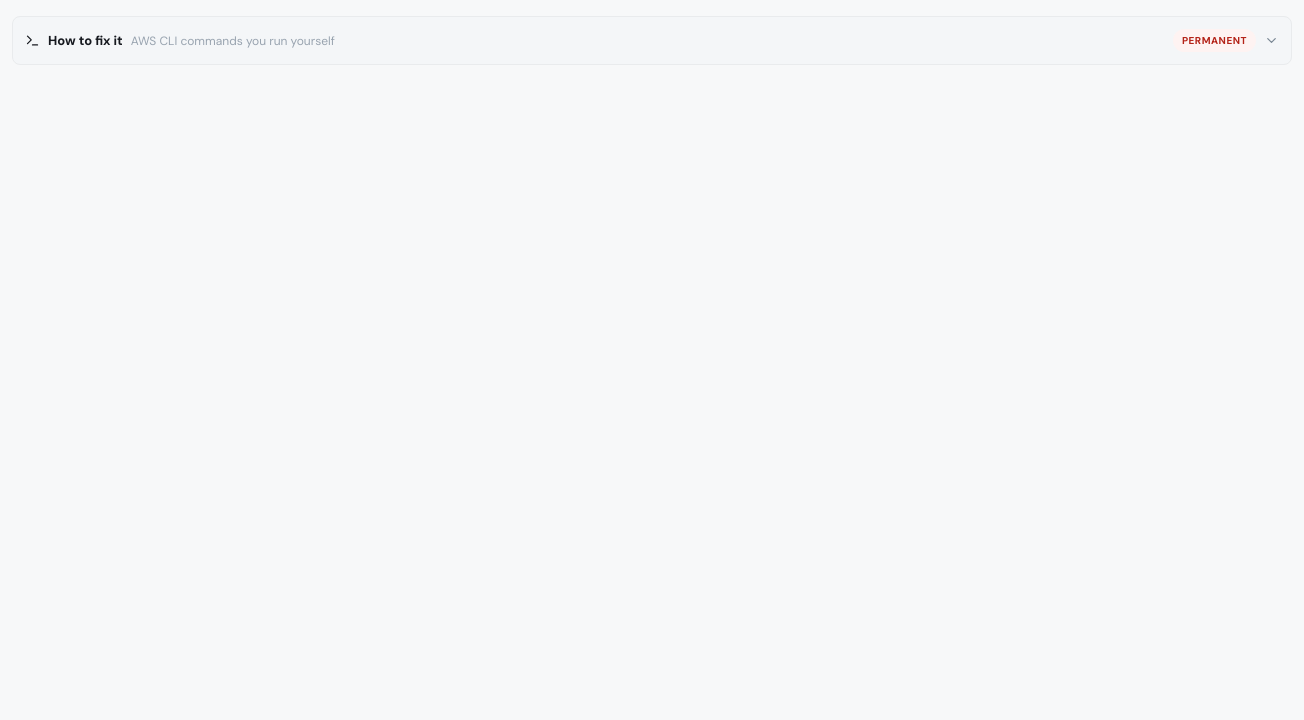
Test: FixCommands › shows the notice, placeholders, steps and the no-undo warning when opened
What coordinates should you click on to do the following:
click the button "How to fix it AWS CLI commands you run yourself Permanent"
I would click on:
 (85, 40)
Its box is [13,17,1291,64].
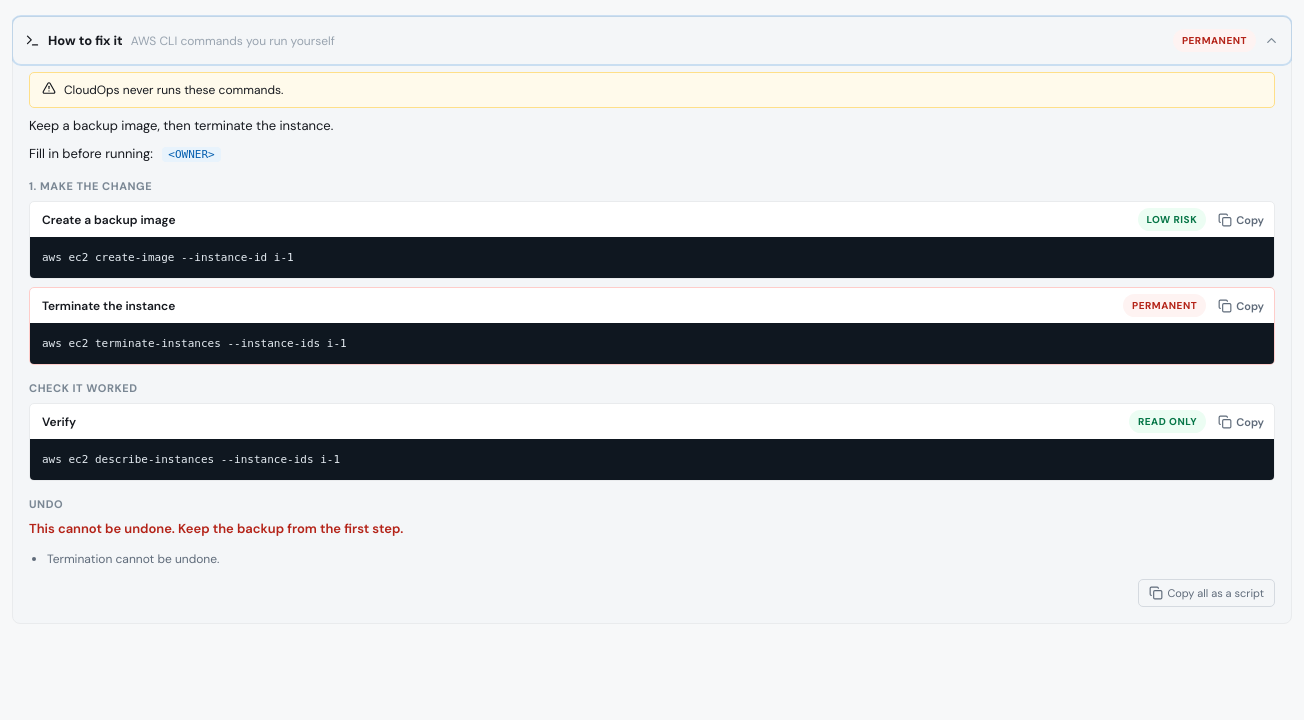
Now the text "CloudOps never runs these commands." is shown, box [29,72,1275,108]
Now the text "<OWNER>" is shown, box [162,146,221,162]
Now the text "aws ec2 terminate-instances --instance-ids i-1" is shown, box [42,337,347,350]
